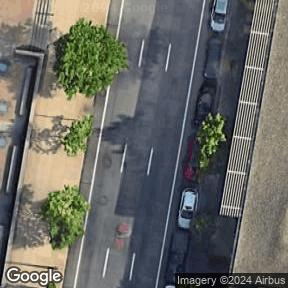vegetation: (35, 9, 136, 110), (28, 180, 100, 253), (179, 109, 236, 172), (59, 108, 97, 160)
